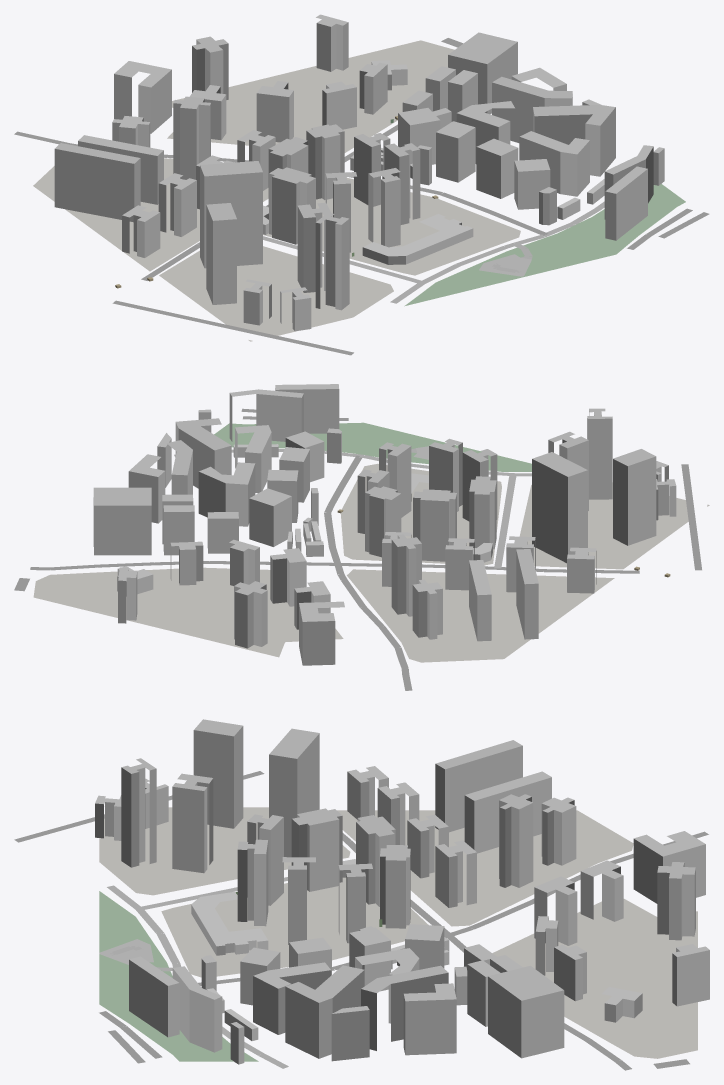
3 renders of one model, top to bottom at view 1: azimuth 30°, elevation 25°; view 2: azimuth 150°, elevation 25°; view 3: azimuth 270°, elevation 25°, orthographic. The views are drawn at different scales.
Size of the model in its own units: 581 by 99.22 by 582.
